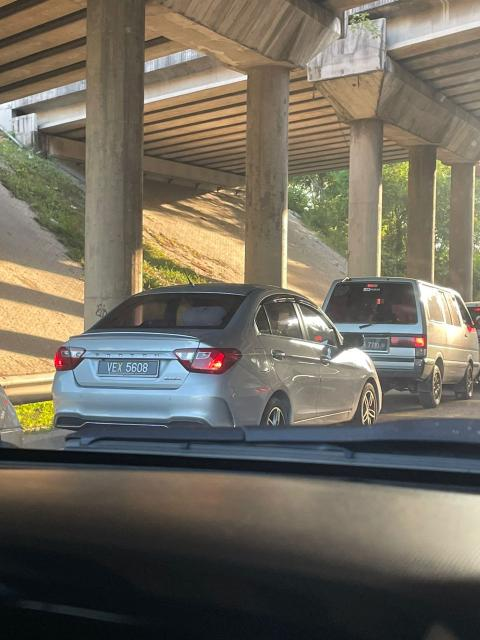License_Plate: (96, 358, 163, 378)
car: (51, 280, 387, 433)
van: (323, 268, 480, 401)
